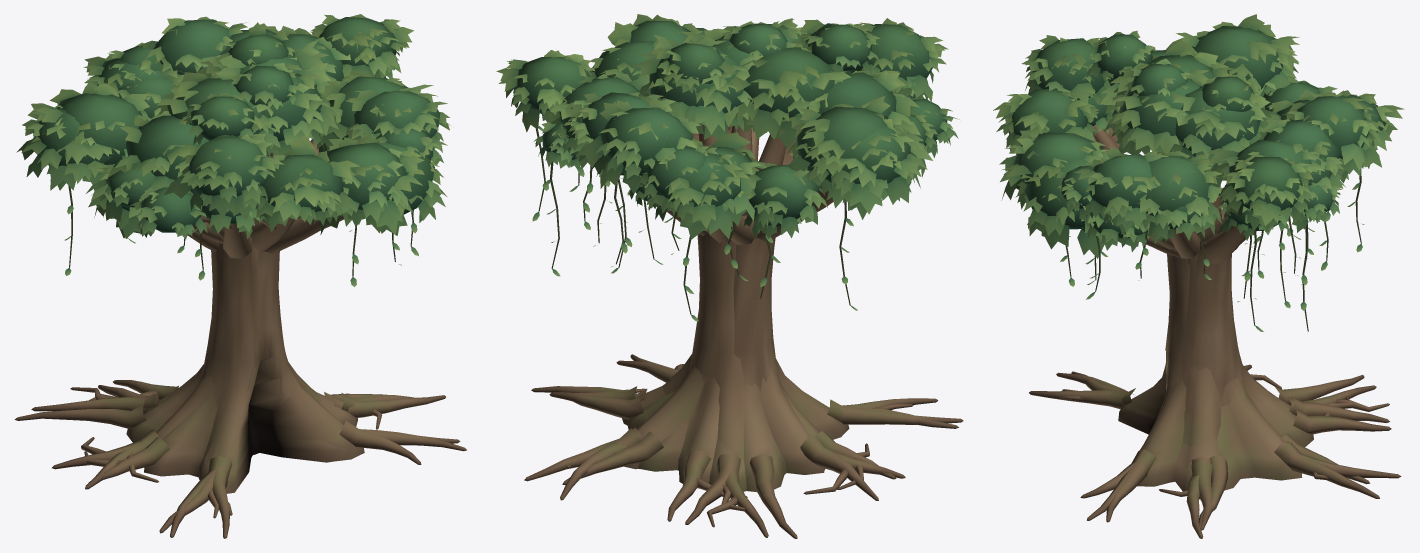
The model's file is giant.glb.
The picture shows the model from 3 angles, left to right: view 1: azimuth 30°, elevation 25°; view 2: azimuth 150°, elevation 25°; view 3: azimuth 270°, elevation 25°; orthographic projection. The views are drawn at different scales.
Parts seen in each view (by area): view 1: giant_0__foliage, giant_1__foliage, giant_2__foliage, giant_1__matte, giant_0__matte, giant_2__matte; view 2: giant_1__foliage, giant_0__foliage, giant_2__foliage, giant_2__matte, giant_1__matte, giant_0__matte; view 3: giant_2__foliage, giant_0__foliage, giant_1__foliage, giant_0__matte, giant_1__matte, giant_2__matte.
Boxes of the visible parts, x1=… form: giant_0__foliage: x1=16, y1=16, x2=447, y2=286; giant_1__foliage: x1=31, y1=32, x2=450, y2=280; giant_2__foliage: x1=86, y1=14, x2=446, y2=243; giant_1__matte: x1=52, y1=185, x2=421, y2=537; giant_0__matte: x1=14, y1=152, x2=460, y2=538; giant_2__matte: x1=31, y1=76, x2=466, y2=533; giant_1__foliage: x1=542, y1=14, x2=959, y2=321; giant_0__foliage: x1=539, y1=18, x2=938, y2=266; giant_2__foliage: x1=496, y1=19, x2=932, y2=301; giant_2__matte: x1=535, y1=124, x2=958, y2=537; giant_1__matte: x1=524, y1=133, x2=963, y2=524; giant_0__matte: x1=531, y1=126, x2=937, y2=538; giant_2__foliage: x1=993, y1=58, x2=1343, y2=331; giant_0__foliage: x1=999, y1=21, x2=1386, y2=302; giant_1__foliage: x1=1021, y1=14, x2=1404, y2=308; giant_0__matte: x1=1029, y1=169, x2=1401, y2=538; giant_1__matte: x1=1056, y1=120, x2=1389, y2=527; giant_2__matte: x1=1062, y1=134, x2=1389, y2=530.
Size of the model in its own units: 14.98 by 14.01 by 13.8.
